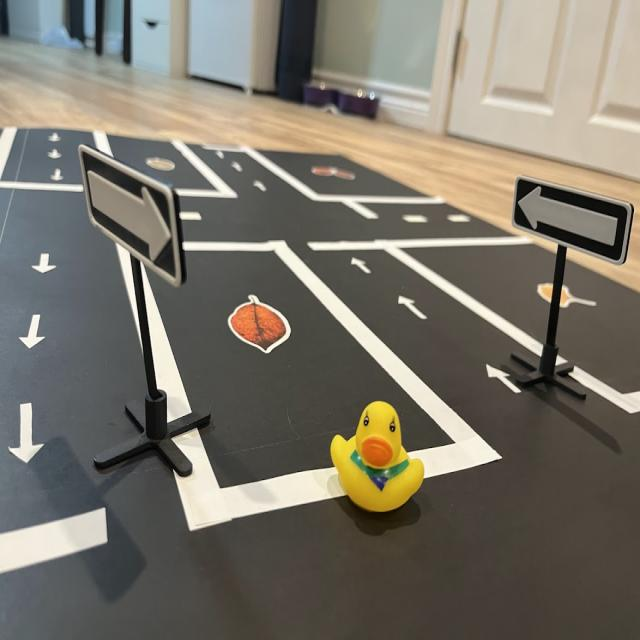duck_regular: (333, 392, 432, 515)
road_oneway: (9, 398, 45, 470), (486, 357, 525, 400), (20, 303, 48, 355), (393, 288, 428, 326), (31, 242, 58, 279), (347, 254, 372, 278), (43, 166, 67, 189), (47, 150, 67, 165), (51, 128, 65, 149)
sign_oneway_left: (513, 174, 630, 267)
sign_oneway_right: (81, 148, 183, 287)
